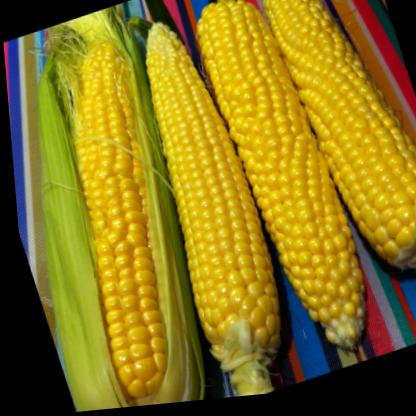corn: (3, 29, 223, 416), (175, 0, 392, 384), (112, 8, 301, 390), (259, 0, 416, 321)
